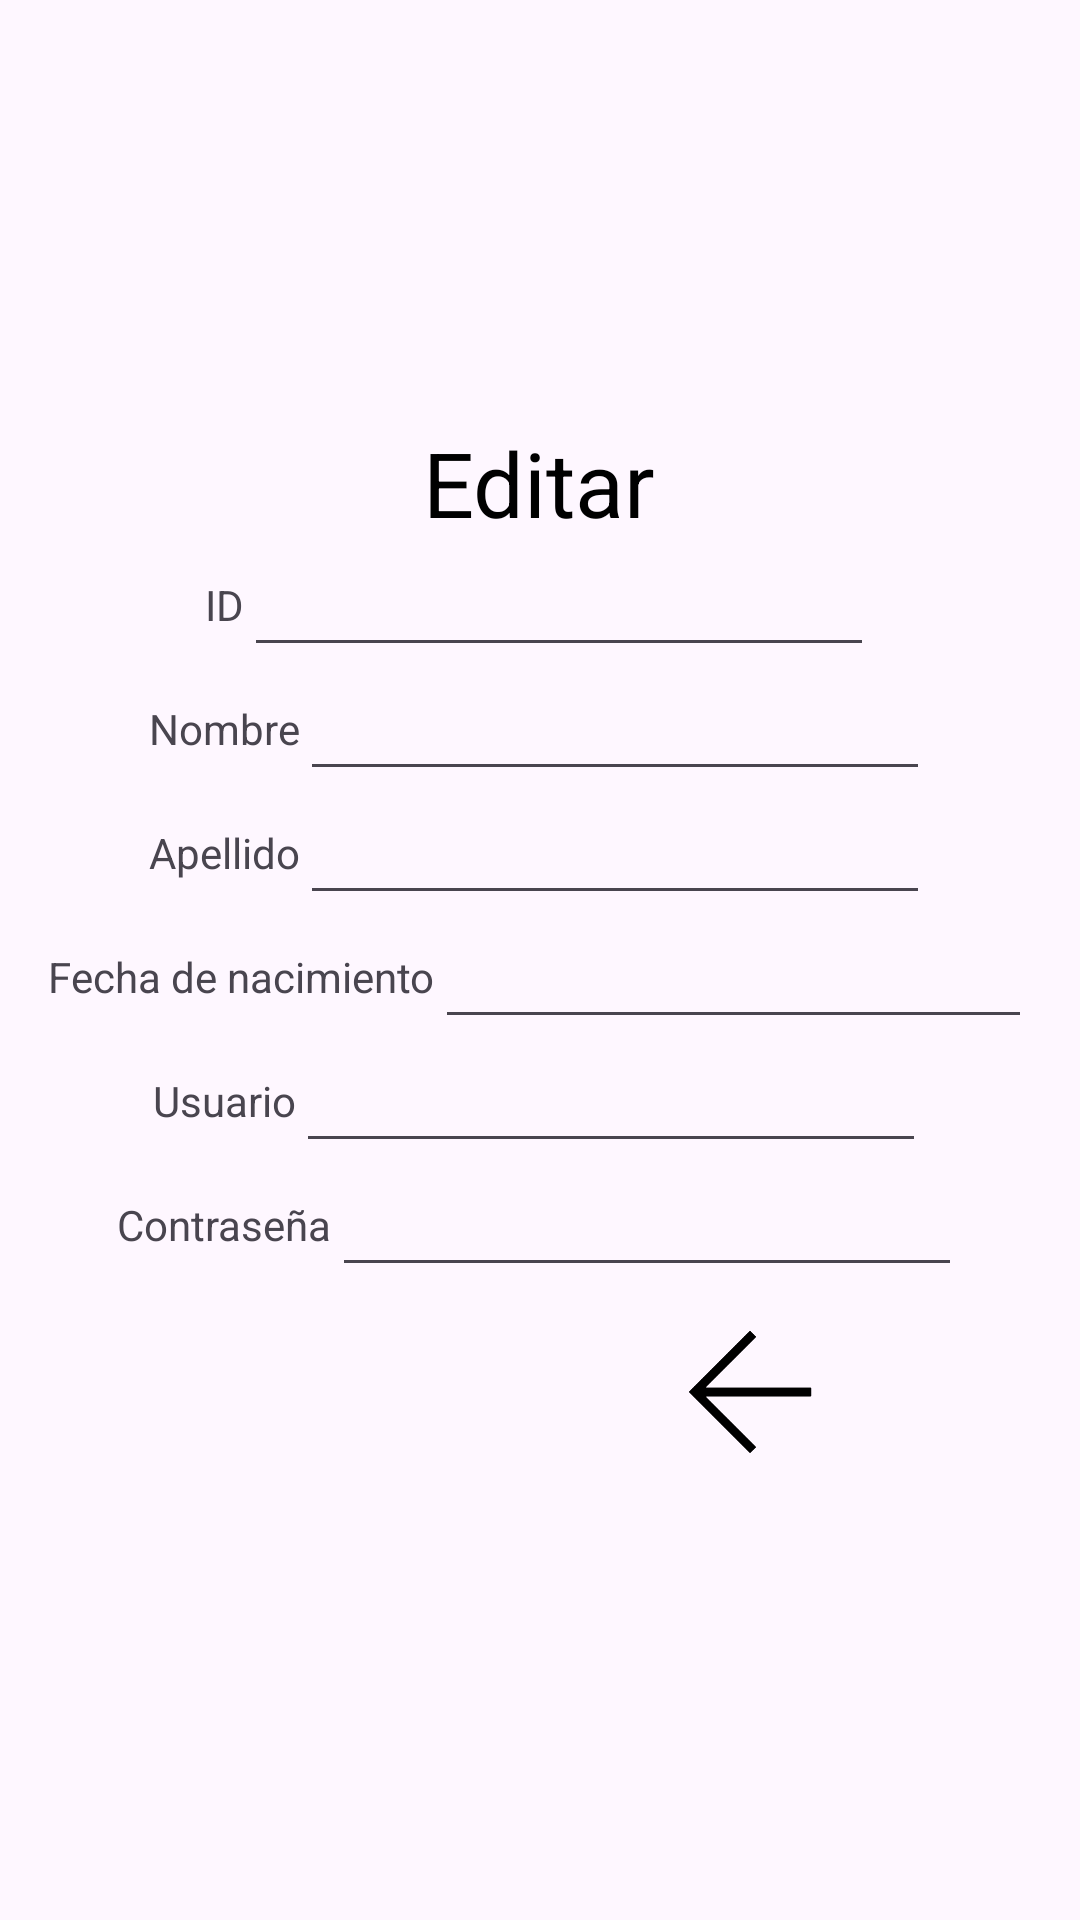

Named icons in this screenshot (1080x1920) and their centers, point (x, y):
back: point (750, 1392)
